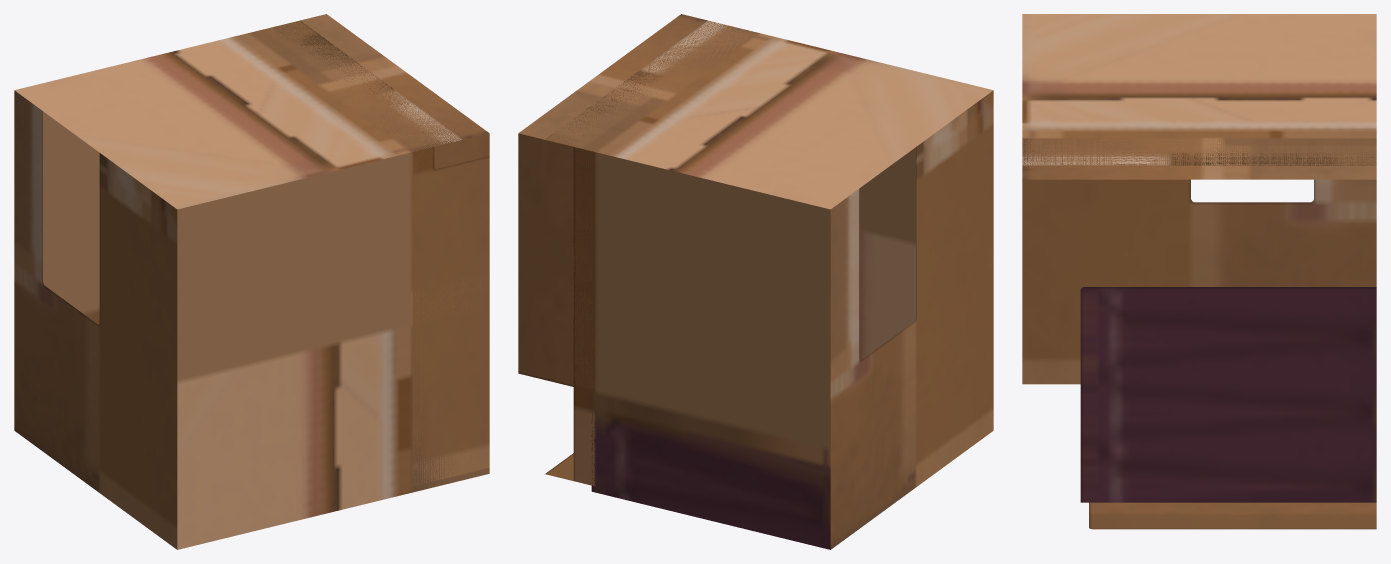
File: section-7.obj
3 renders of one model, left to right at view 1: azimuth 30°, elevation 25°; view 2: azimuth 150°, elevation 25°; view 3: azimuth 270°, elevation 25°, orthographic. The views are drawn at different scales.
Size of the model in its own units: 0.9008 by 0.9383 by 0.8142.
